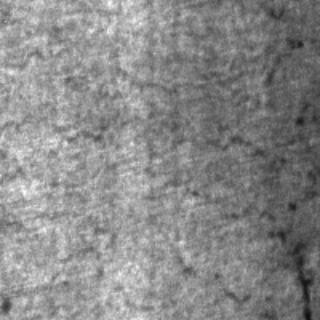crazing: (2, 42, 272, 218)
